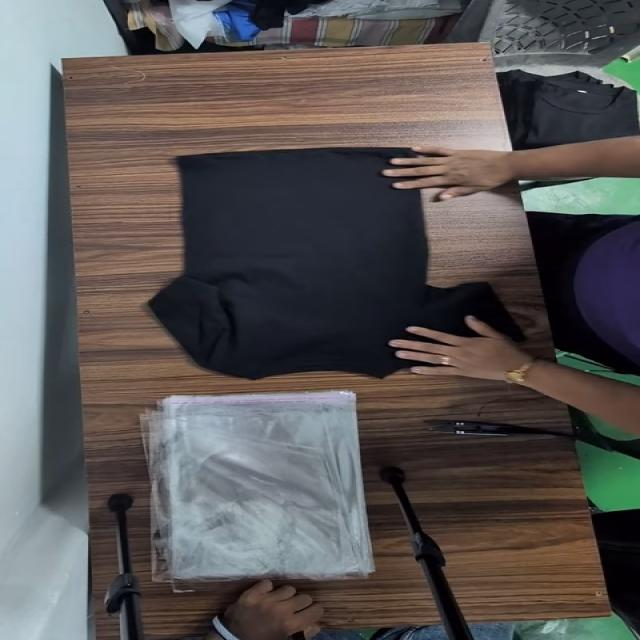new-garment: (149, 148, 520, 379)
